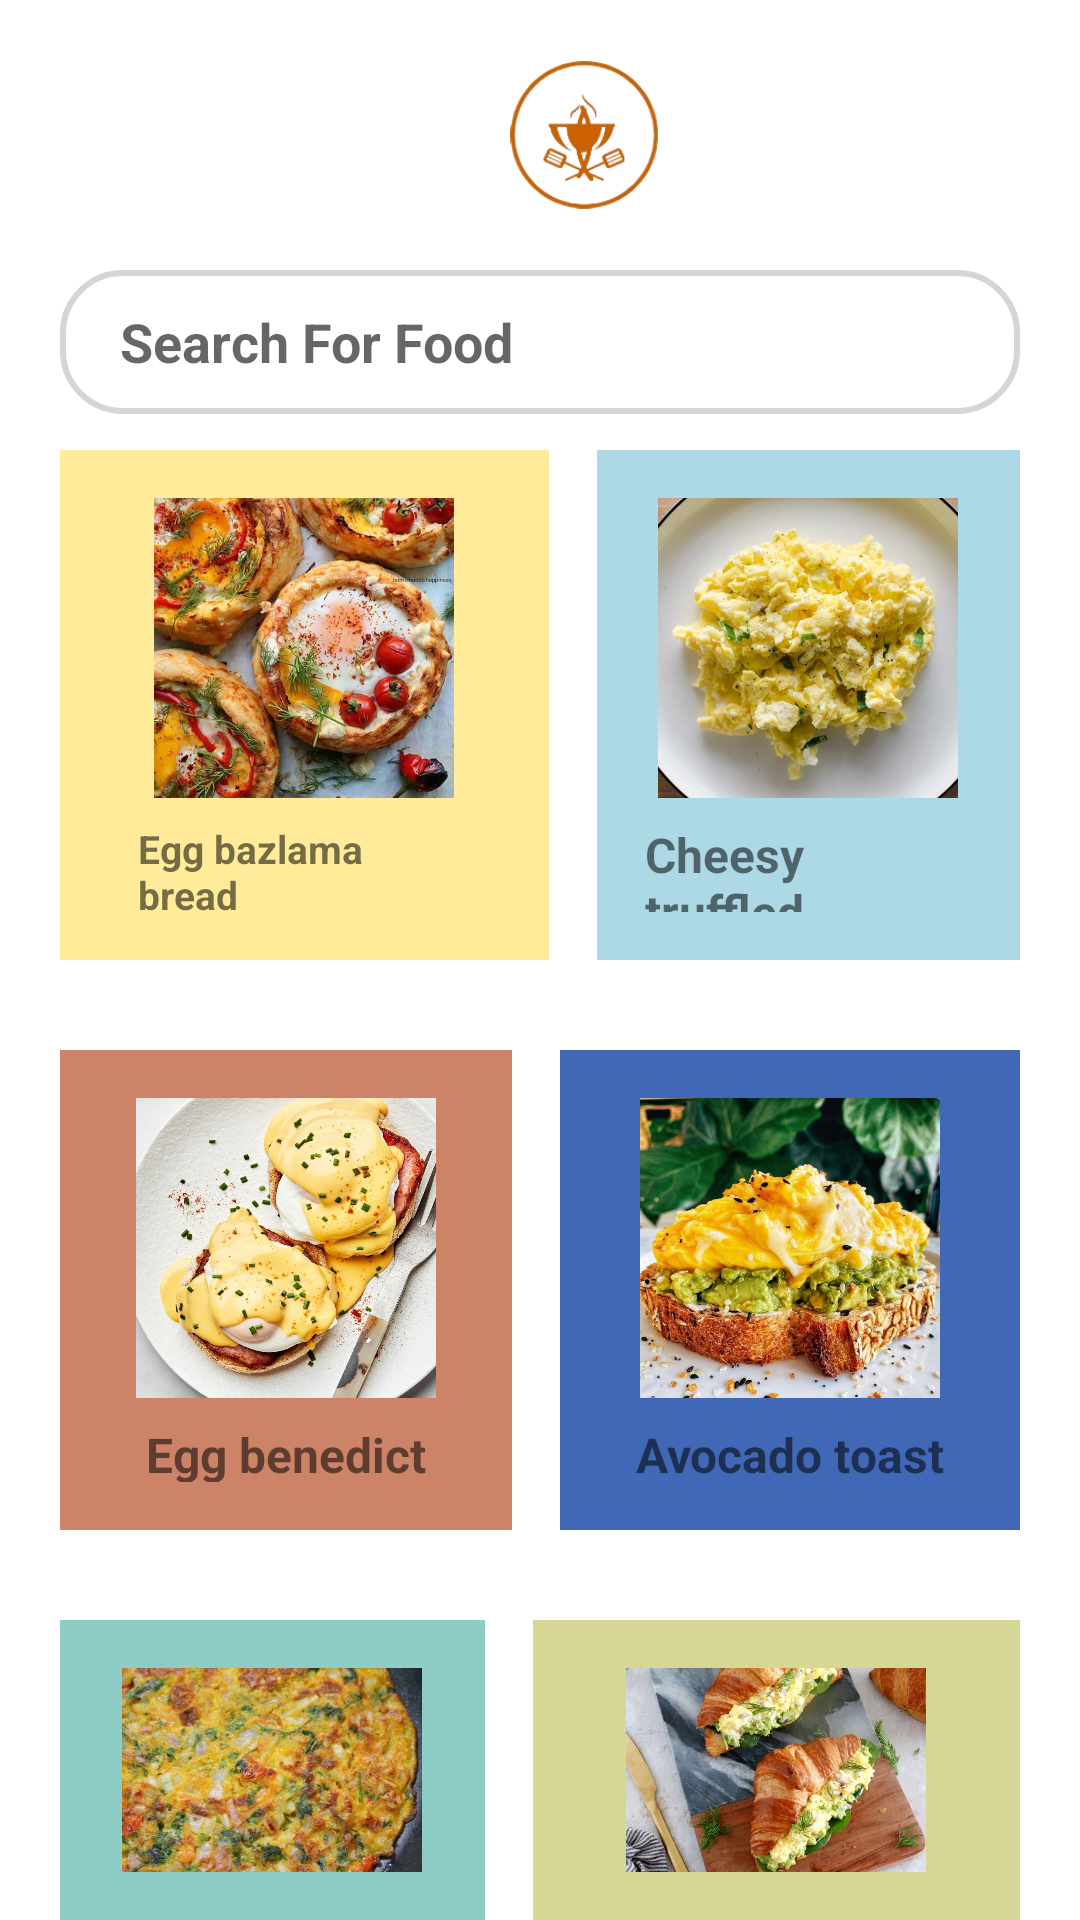

Where to tap for icons on this 1080 x 1920 app screen, as (x=x, y=y):
masala omelette: (x=272, y=1770)
